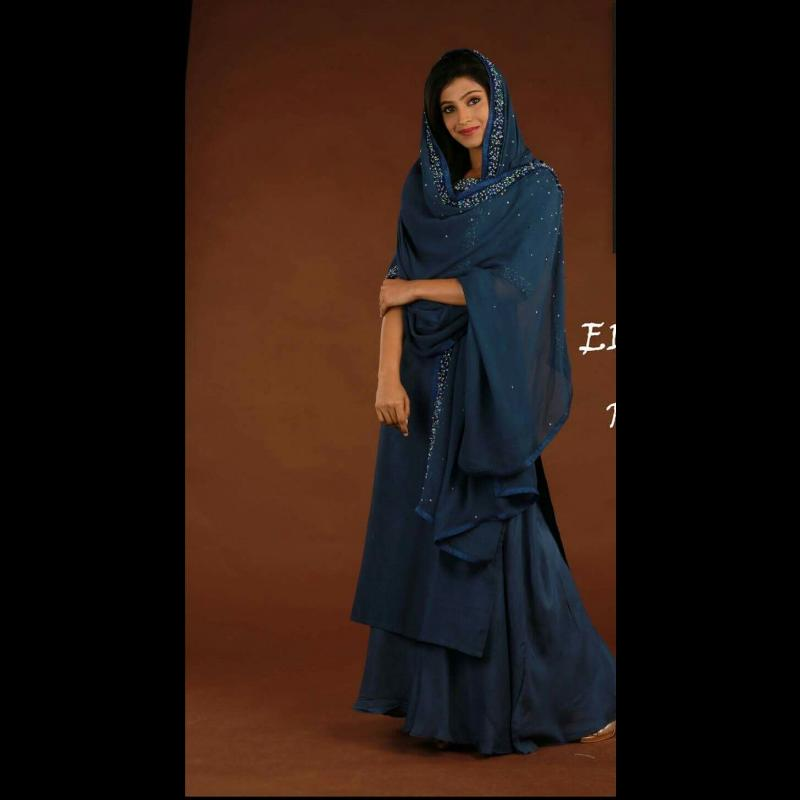Churidaar: (357, 156, 610, 736)
Hijab: (417, 50, 518, 202)
